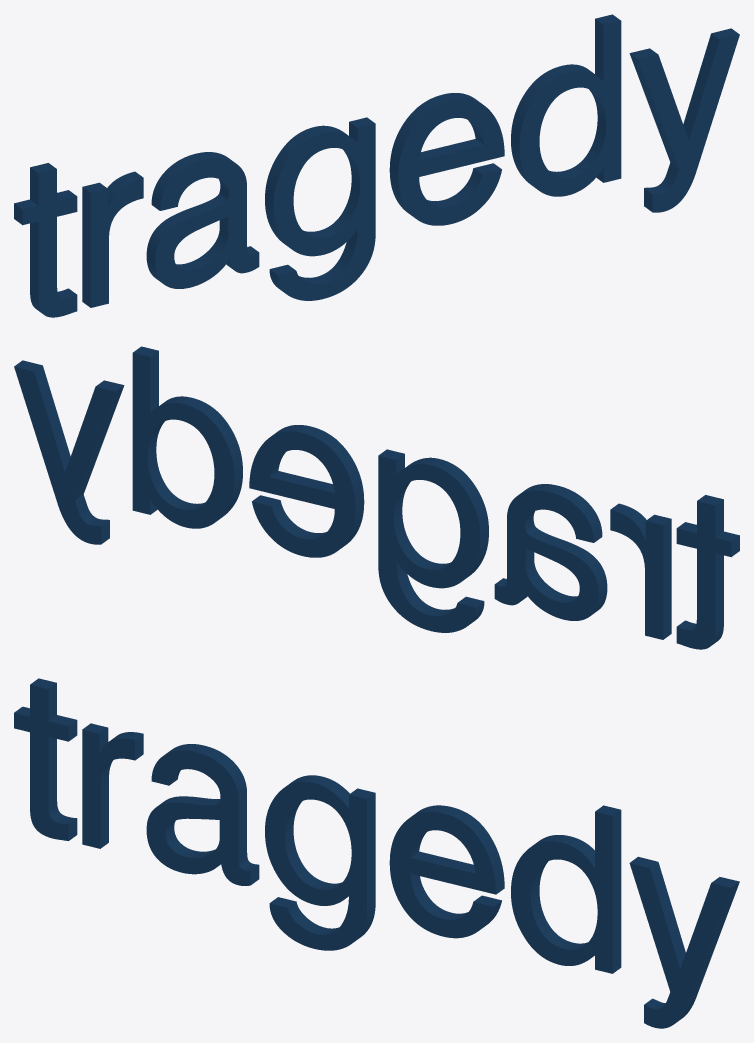
Rendered from tragedy.glb.
3 renders of one model, top to bottom at view 1: azimuth 30°, elevation 25°; view 2: azimuth 150°, elevation 25°; view 3: azimuth 330°, elevation 25°, orthographic.
Parts seen in each view (by area): view 1: mesh_0; view 2: mesh_0; view 3: mesh_0.
Boxes of the visible parts, x1=… form: mesh_0: x1=14, y1=14, x2=739, y2=317; mesh_0: x1=14, y1=346, x2=739, y2=649; mesh_0: x1=14, y1=678, x2=739, y2=1028.
Bounding box in the file's own units: 4.82 × 1.32 × 0.0999.
